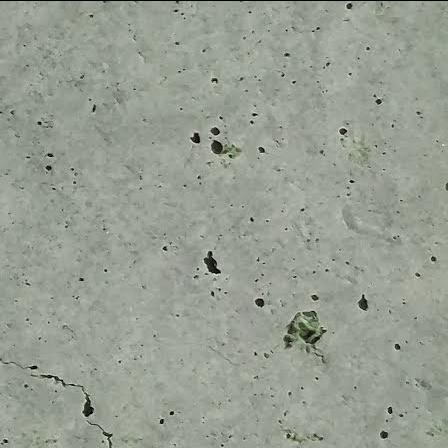crack: (22, 364, 103, 419), (80, 412, 122, 448), (306, 340, 333, 368), (0, 355, 40, 373)
spalling: (275, 304, 331, 349), (198, 247, 224, 279)
